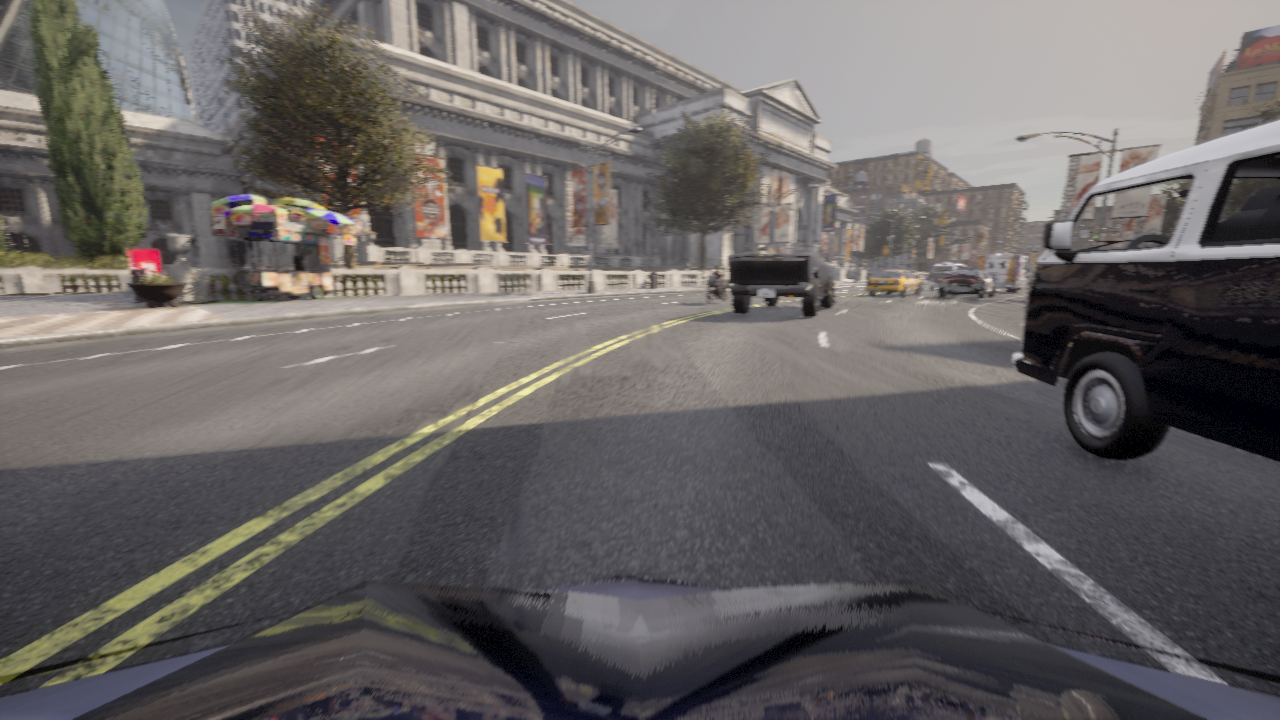cyclist: (0, 569, 1279, 719), (1013, 119, 1279, 462), (728, 245, 837, 316), (976, 254, 1030, 292), (937, 267, 996, 298), (866, 267, 921, 296), (929, 262, 966, 289), (702, 275, 730, 304), (1024, 273, 1031, 278), (1026, 277, 1030, 284)
